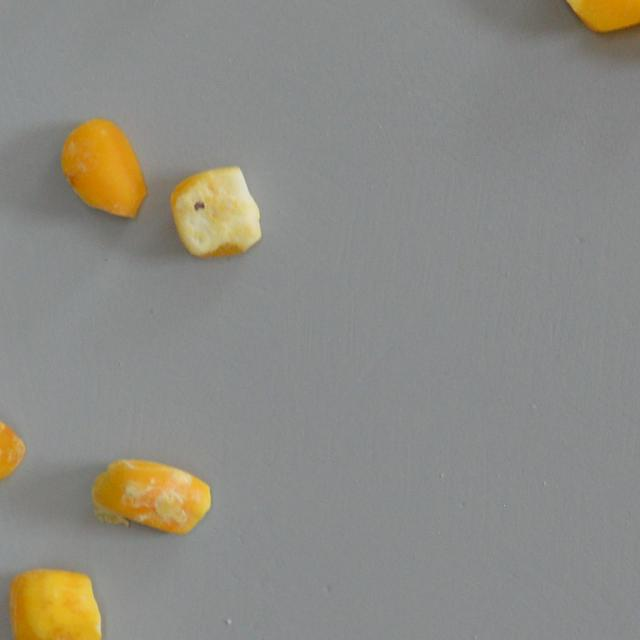dañado: (46, 112, 156, 228)
pelicula: (90, 459, 214, 535), (5, 568, 106, 640), (551, 0, 640, 32), (0, 396, 27, 493)
punto_negro: (170, 164, 265, 260)
